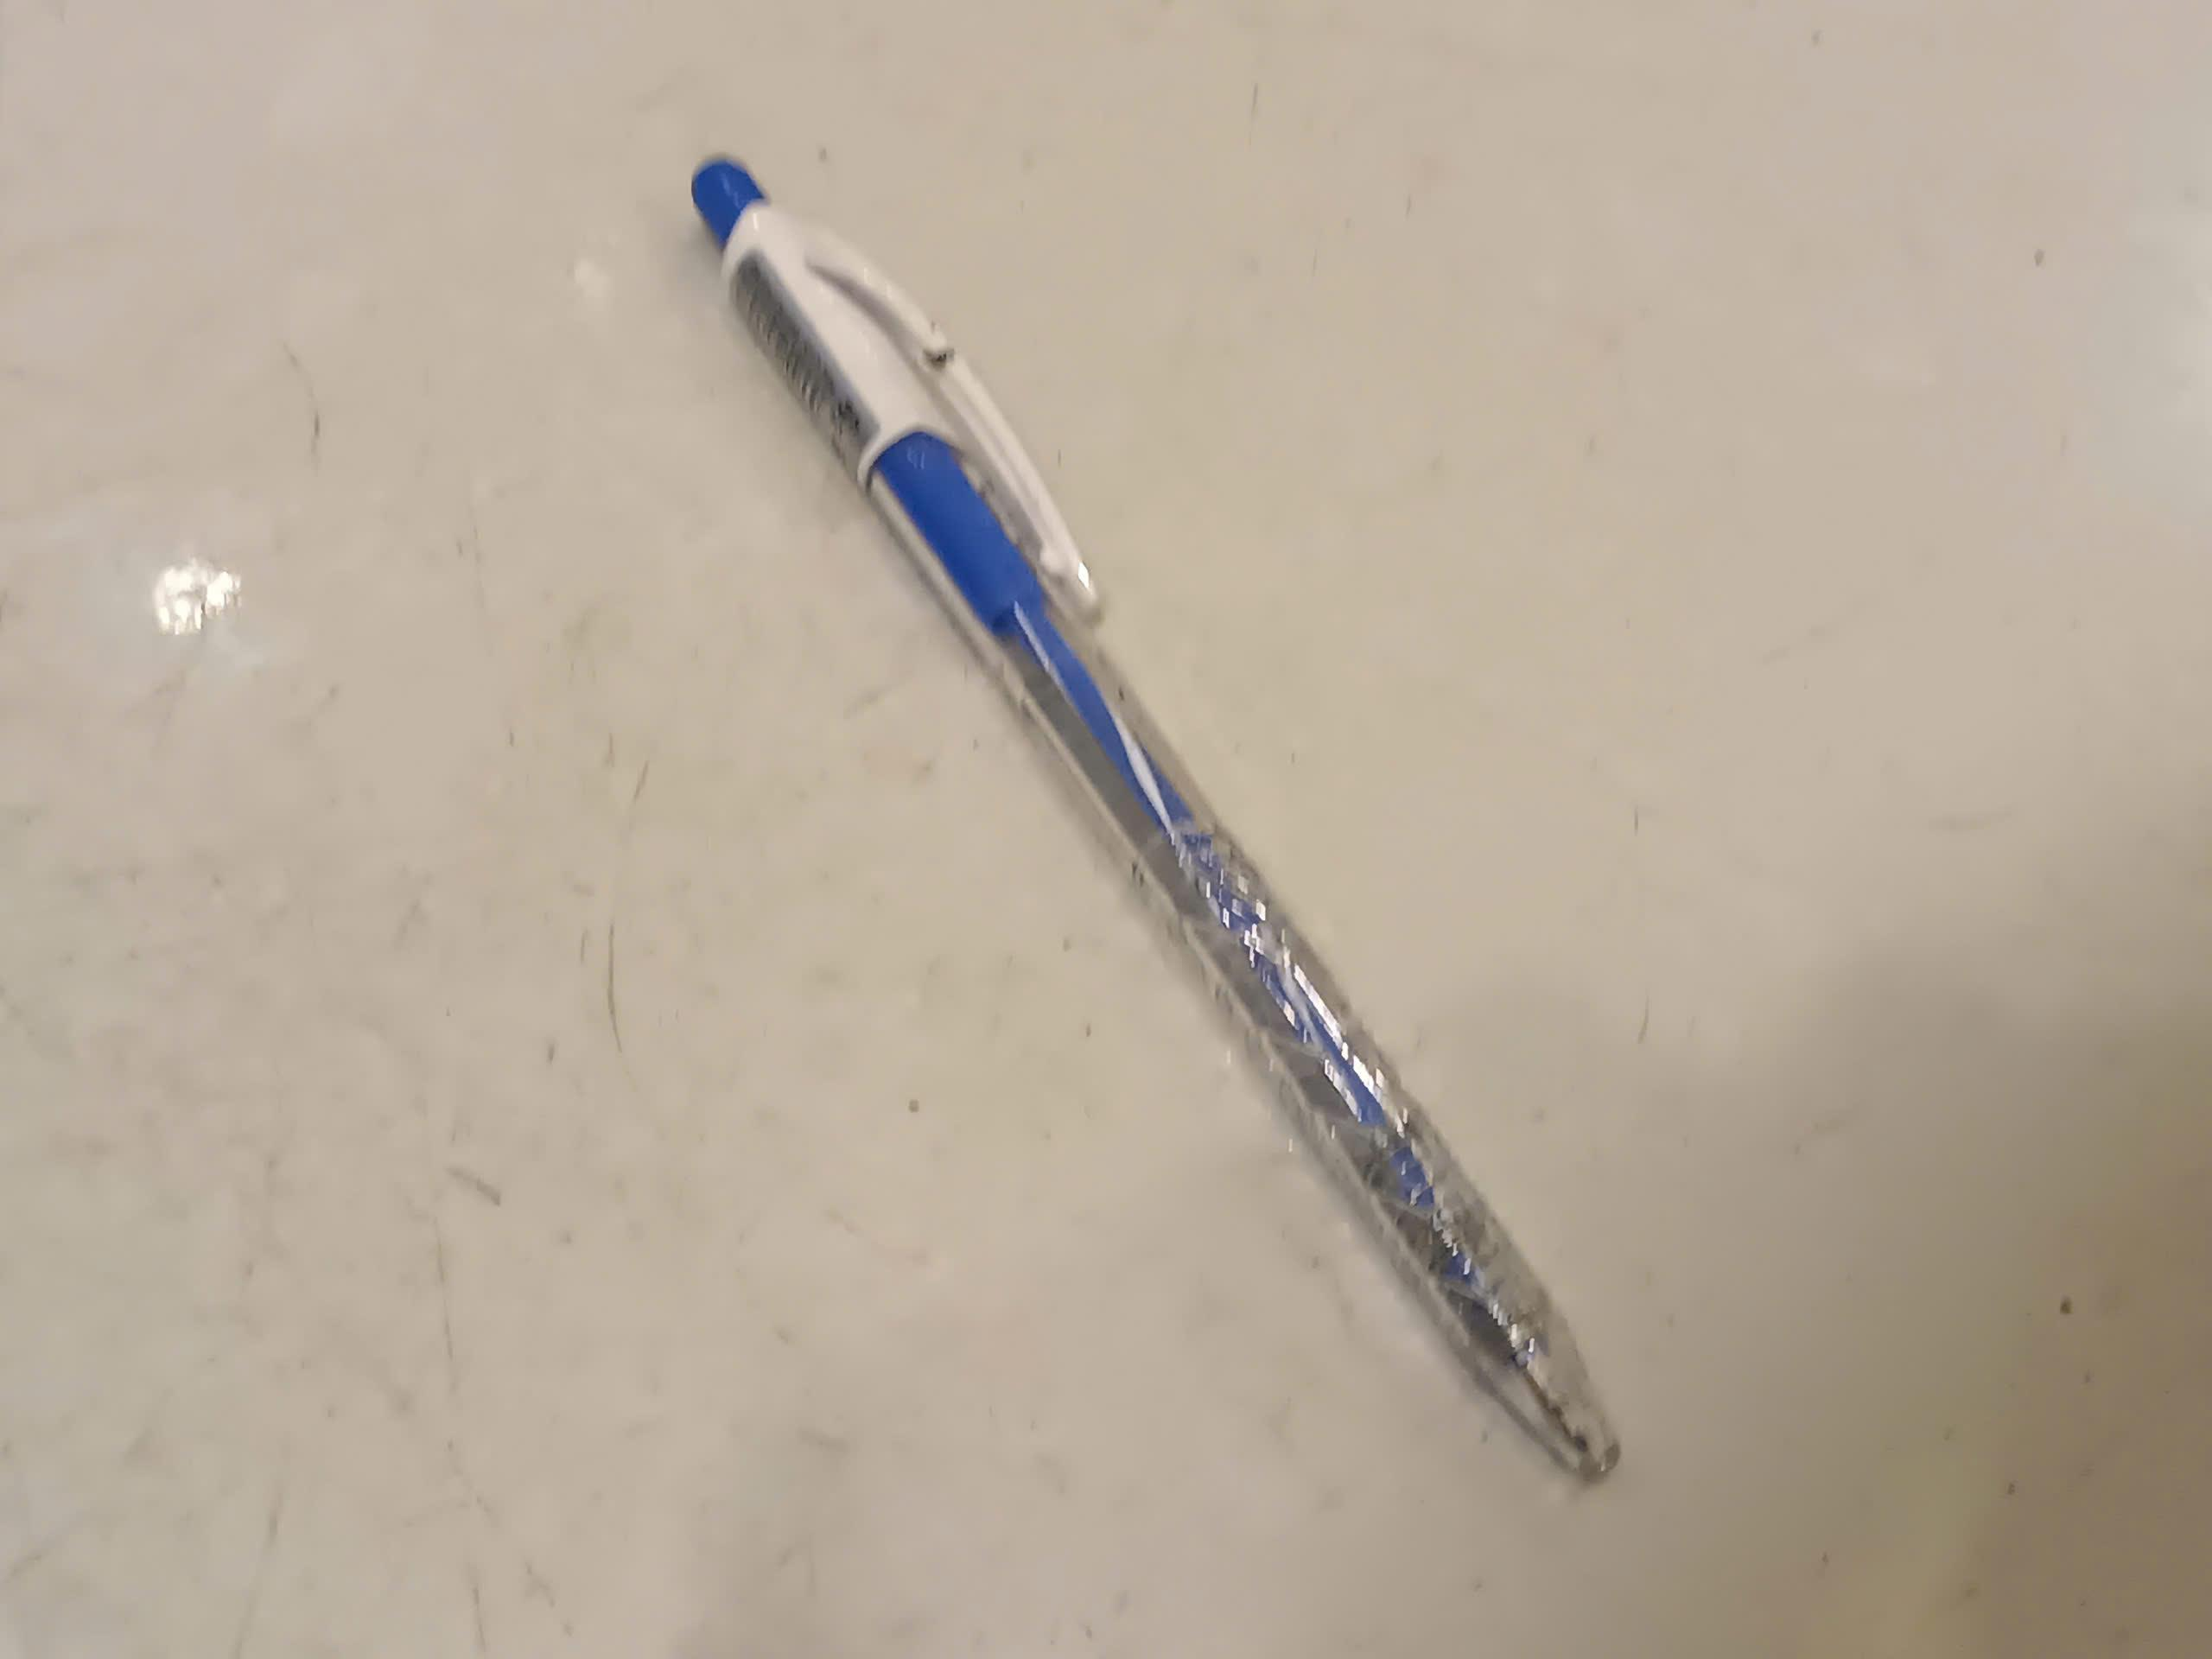Con lai: (695, 157, 1615, 1490)
